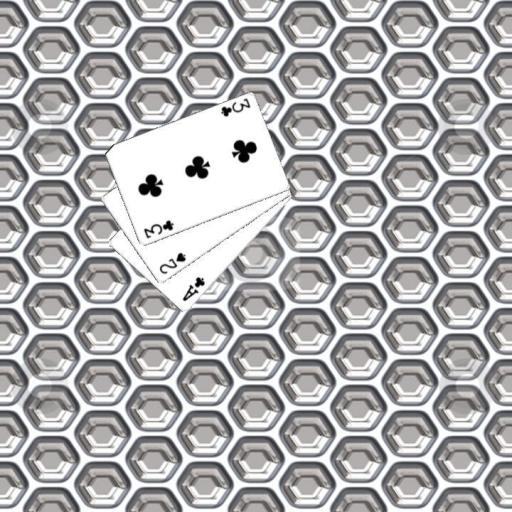2S: (156, 250, 187, 276)
3C: (218, 95, 252, 119), (140, 217, 175, 240)
AC: (179, 274, 206, 303)
